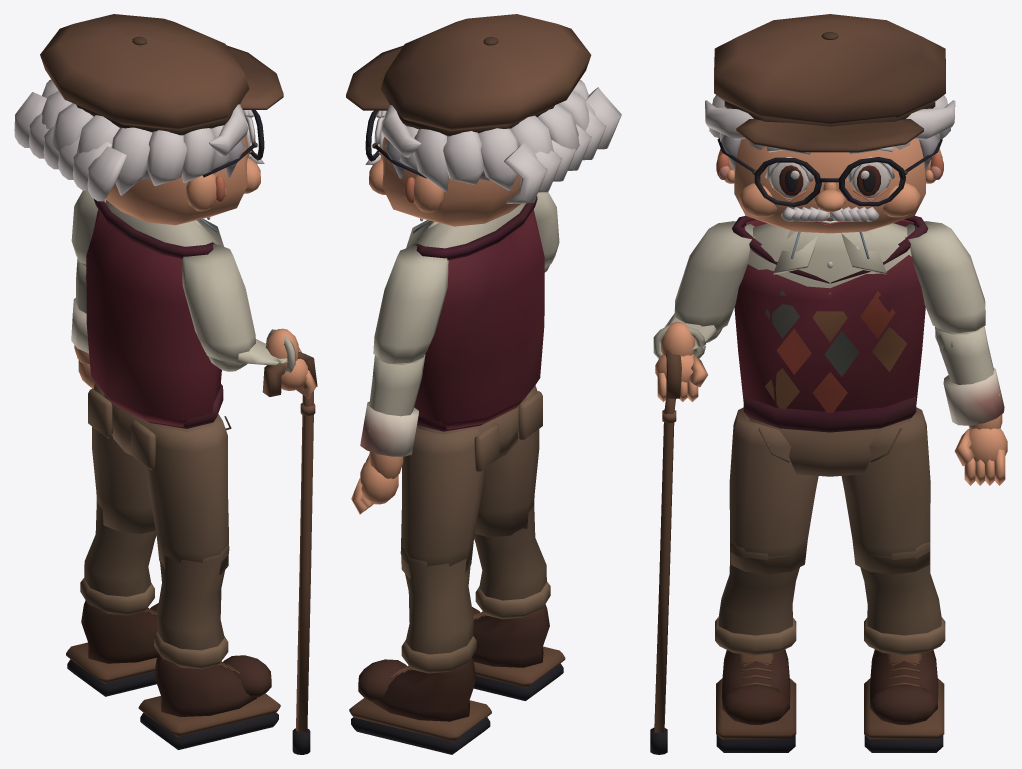
Rendered from npc.civilian-elderly.aftermath.glb.
3 renders of one model, left to right at view 1: azimuth 30°, elevation 25°; view 2: azimuth 150°, elevation 25°; view 3: azimuth 270°, elevation 25°, orthographic.
Parts seen in each view (by area): view 1: head, torso, legR, footR, shinR, handR, footL, armR, shinL, legL, hip, foreArmR (+2 smaller); view 2: head, torso, legL, footL, shinL, footR, armL, shinR, foreArmL, legR, hip, handL (+1 smaller); view 3: head, torso, legL, legR, footR, footL, handR, shinL, shinR, armL, armR, foreArmL (+3 smaller).
Part boxes in pixels (bbox=[...]): head: bbox=[14, 14, 283, 225]; torso: bbox=[86, 199, 223, 428]; legR: bbox=[145, 414, 228, 574]; footR: bbox=[138, 653, 280, 749]; shinR: bbox=[154, 543, 229, 669]; handR: bbox=[262, 328, 317, 754]; footL: bbox=[66, 600, 158, 696]; armR: bbox=[182, 244, 255, 361]; shinL: bbox=[80, 500, 156, 615]; legL: bbox=[92, 383, 155, 533]; hip: bbox=[88, 388, 231, 469]; foreArmR: bbox=[208, 329, 295, 372]; head: bbox=[346, 14, 621, 226]; torso: bbox=[406, 196, 544, 431]; legL: bbox=[401, 425, 484, 578]; footL: bbox=[349, 658, 491, 754]; shinL: bbox=[400, 547, 476, 673]; footR: bbox=[472, 604, 565, 700]; armL: bbox=[373, 246, 448, 363]; shinR: bbox=[474, 504, 550, 619]; foreArmL: bbox=[360, 354, 425, 456]; legR: bbox=[475, 385, 539, 537]; hip: bbox=[417, 391, 542, 472]; handL: bbox=[351, 451, 403, 514]; head: bbox=[705, 14, 955, 233]; torso: bbox=[732, 215, 928, 432]; legL: bbox=[841, 407, 930, 574]; legR: bbox=[729, 407, 818, 574]; footR: bbox=[716, 649, 796, 752]; footL: bbox=[864, 649, 944, 752]; handR: bbox=[650, 322, 707, 754]; shinL: bbox=[860, 540, 945, 655]; shinR: bbox=[715, 542, 799, 655]; armL: bbox=[905, 221, 985, 332]; armR: bbox=[674, 221, 754, 330]; foreArmL: bbox=[935, 326, 1004, 425].
Bounding box in the file's own units: 0.5774 × 1.78 × 0.8475.
